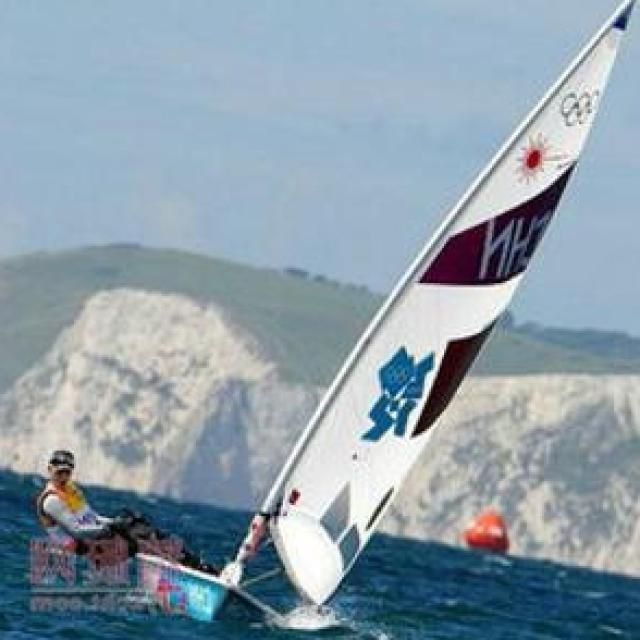sailboat: (133, 0, 640, 625)
